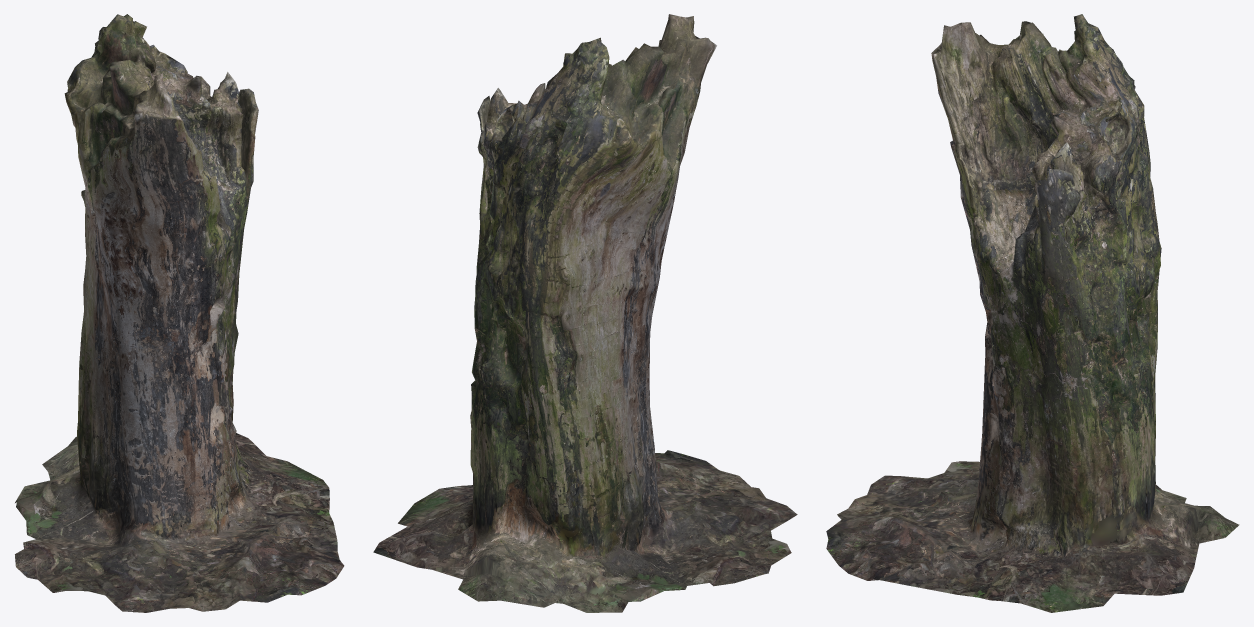
The model's file is sm_TreeStump_01_01.fbx.
3 renders of one model, left to right at view 1: azimuth 30°, elevation 25°; view 2: azimuth 150°, elevation 25°; view 3: azimuth 270°, elevation 25°, orthographic. The views are drawn at different scales.
Visible parts, largest first — view 1: sm_TreeStump_01_01_LOD0; view 2: sm_TreeStump_01_01_LOD0; view 3: sm_TreeStump_01_01_LOD0.
Boxes of the visible parts, x1,y1,x2,y2 form: sm_TreeStump_01_01_LOD0: (15, 14, 344, 612); sm_TreeStump_01_01_LOD0: (373, 14, 797, 612); sm_TreeStump_01_01_LOD0: (826, 14, 1239, 612).
Bounding box in the file's own units: 106 × 118 × 160.
